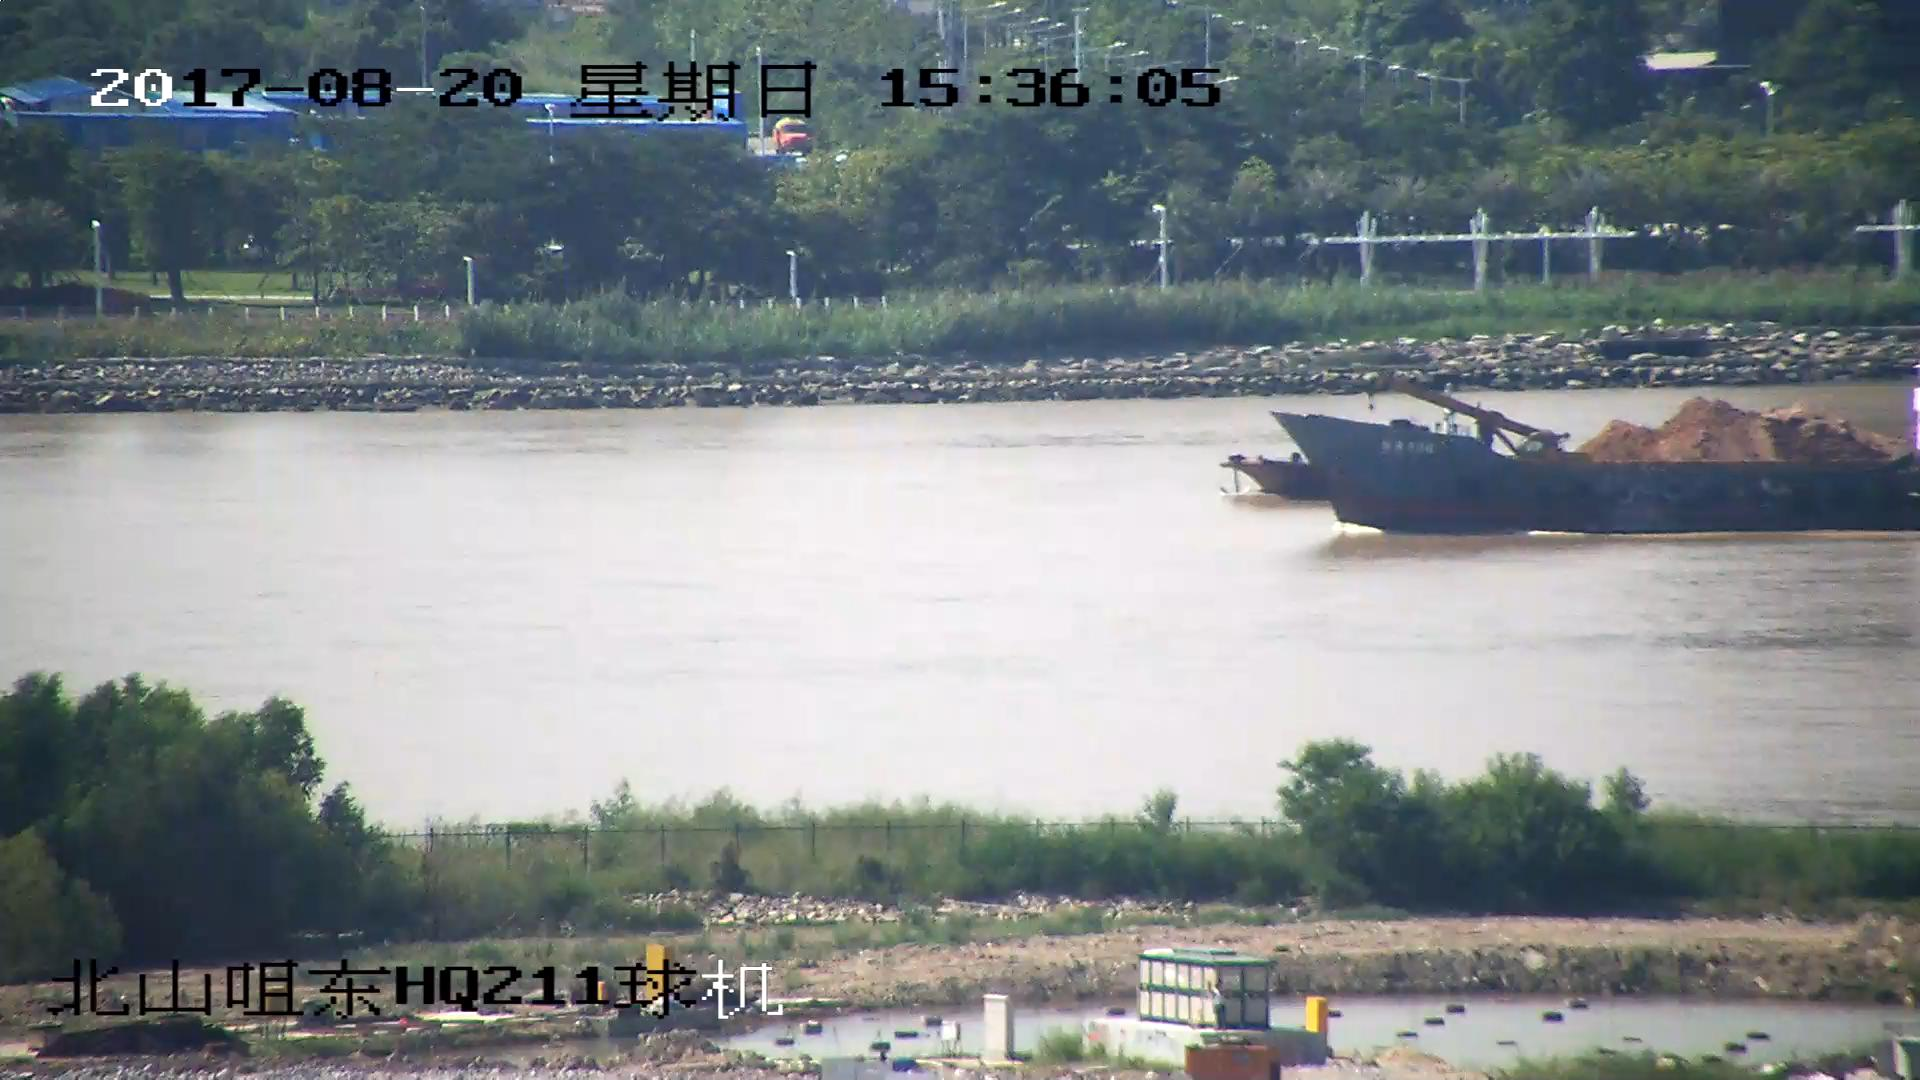general cargo ship: (1272, 407, 1920, 530)
ore carrier: (1221, 397, 1920, 506)
